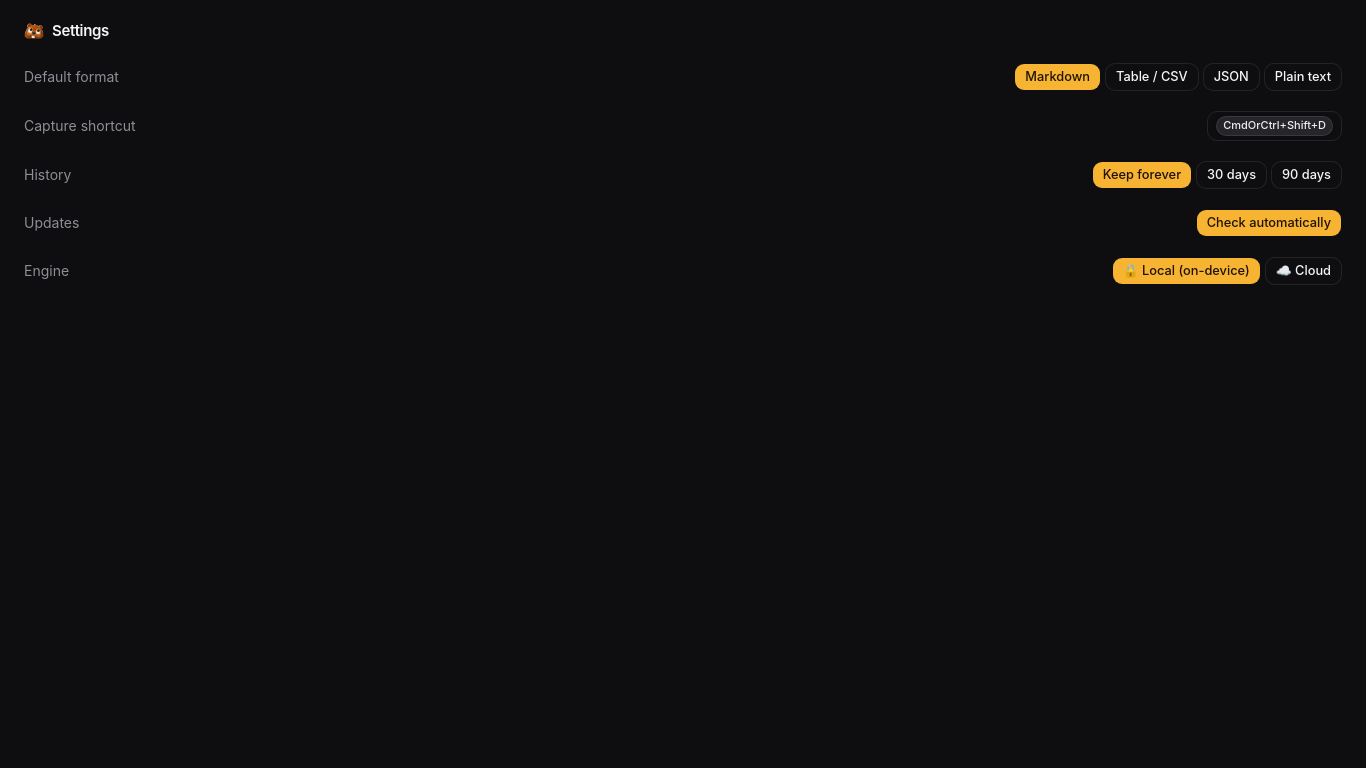
Test: SettingsPanel › surfaces a rejected cloud configuration and stays on local
Click the button "☁️ Cloud" at (1303, 270), box left=1265, top=256, right=1342, bottom=284
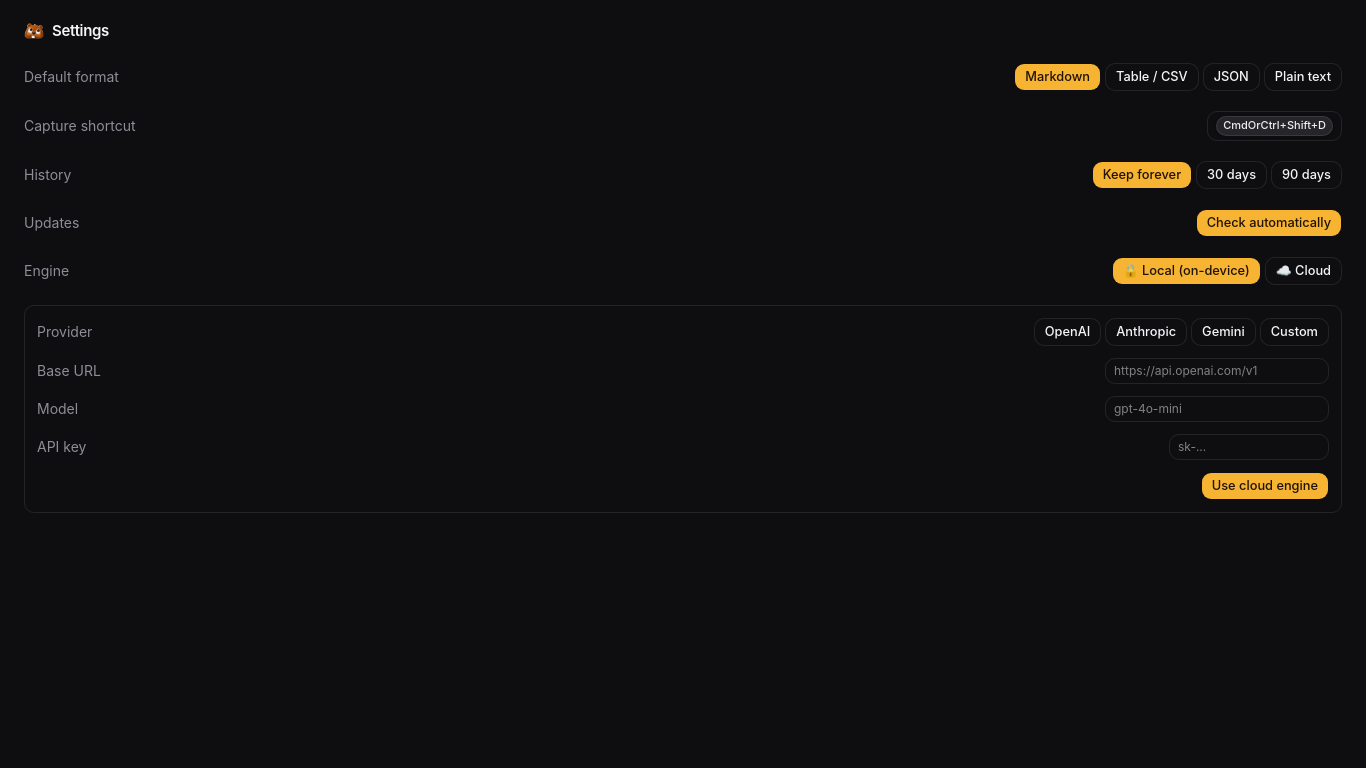
Click the button "Use cloud engine" at (1265, 486), box left=1201, top=472, right=1329, bottom=500
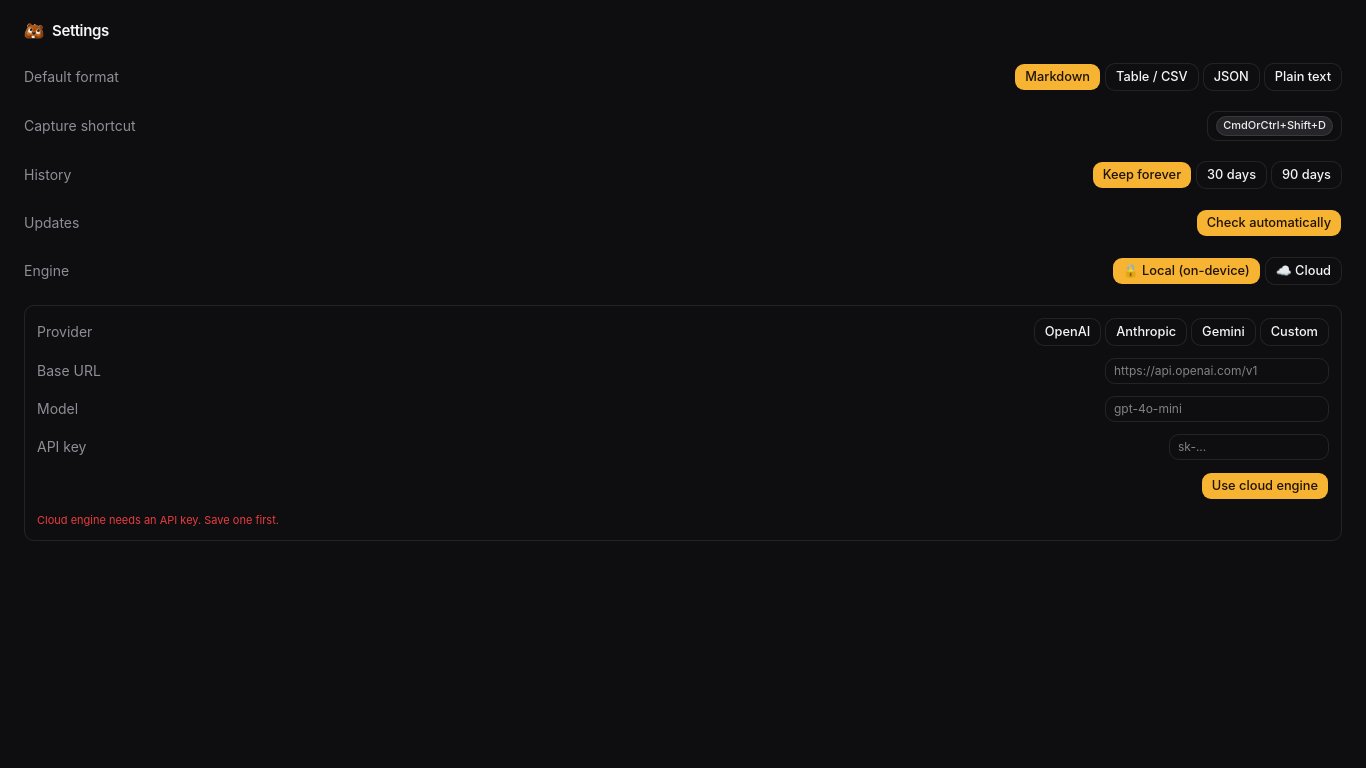
Expected: the text "Cloud engine needs an API key. Save one first." is shown, left=37, top=512, right=279, bottom=526
